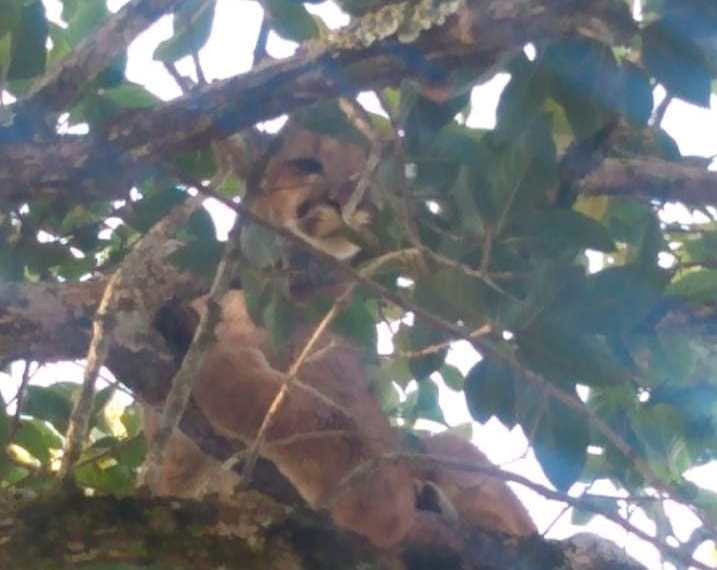OncaParda: (163, 126, 544, 557)
